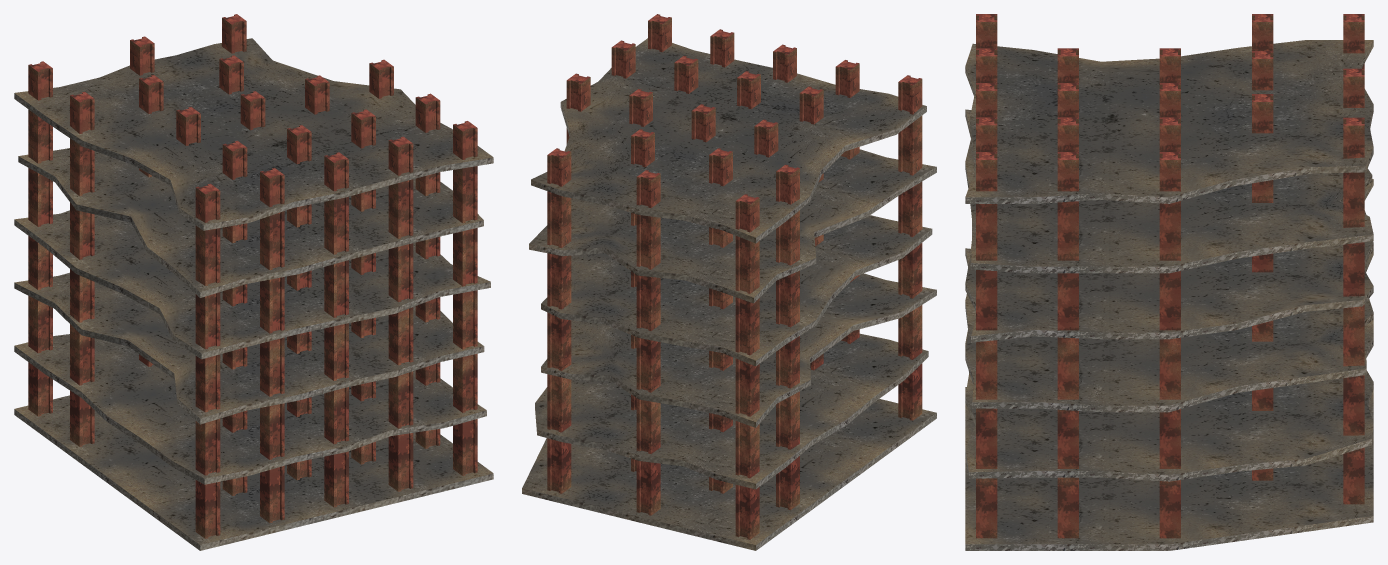
File: bldg_04.fbx
3 renders of one model, left to right at view 1: azimuth 30°, elevation 25°; view 2: azimuth 150°, elevation 25°; view 3: azimuth 270°, elevation 25°, orthographic. The views are drawn at different scales.
Parts seen in each view (by area): view 1: floor_6, floor_2, floor_1, floor_5, floor_4, floor_3, post_15, post_18, post_19, post_16, post_17, post_4 (+13 smaller); view 2: floor_6, floor_2, floor_1, floor_4, floor_5, floor_3, post_2, post_3, post_1, post_15, post_4, post_5 (+13 smaller); view 3: floor_6, floor_1, floor_2, floor_5, floor_3, floor_4, post_11, post_19, post_10, post_2, post_6, post_3 (+13 smaller).
Part boxes in pixels (x1=…): floor_6: x1=14, y1=38, x2=493, y2=230; floor_2: x1=14, y1=334, x2=486, y2=484; floor_1: x1=14, y1=395, x2=493, y2=550; floor_5: x1=18, y1=148, x2=483, y2=297; floor_4: x1=14, y1=210, x2=490, y2=359; floor_3: x1=14, y1=272, x2=484, y2=424; post_15: x1=195, y1=183, x2=220, y2=538; post_18: x1=388, y1=136, x2=413, y2=491; post_19: x1=453, y1=121, x2=477, y2=475; post_16: x1=260, y1=168, x2=284, y2=523; post_17: x1=324, y1=152, x2=348, y2=507; post_4: x1=70, y1=91, x2=94, y2=446; floor_6: x1=531, y1=38, x2=926, y2=243; floor_2: x1=535, y1=333, x2=928, y2=489; floor_1: x1=522, y1=399, x2=936, y2=550; floor_4: x1=541, y1=215, x2=932, y2=366; floor_5: x1=529, y1=149, x2=936, y2=303; floor_3: x1=541, y1=273, x2=936, y2=427; post_2: x1=547, y1=148, x2=571, y2=493; post_3: x1=735, y1=194, x2=759, y2=539; post_1: x1=636, y1=170, x2=660, y2=515; post_15: x1=898, y1=75, x2=922, y2=420; post_4: x1=776, y1=164, x2=799, y2=509; post_5: x1=709, y1=148, x2=732, y2=493; floor_6: x1=965, y1=40, x2=1373, y2=203; floor_1: x1=965, y1=387, x2=1373, y2=550; floor_2: x1=965, y1=319, x2=1373, y2=481; floor_5: x1=965, y1=109, x2=1373, y2=273; floor_3: x1=965, y1=248, x2=1373, y2=412; floor_4: x1=965, y1=179, x2=1373, y2=342; post_11: x1=1057, y1=152, x2=1078, y2=538; post_19: x1=976, y1=152, x2=997, y2=538; post_10: x1=1159, y1=152, x2=1180, y2=538; post_2: x1=1343, y1=117, x2=1364, y2=504; post_6: x1=1252, y1=94, x2=1273, y2=480; post_3: x1=1343, y1=14, x2=1364, y2=68.
Bounding box in the file's own units: 1825 × 2082 × 2002.
